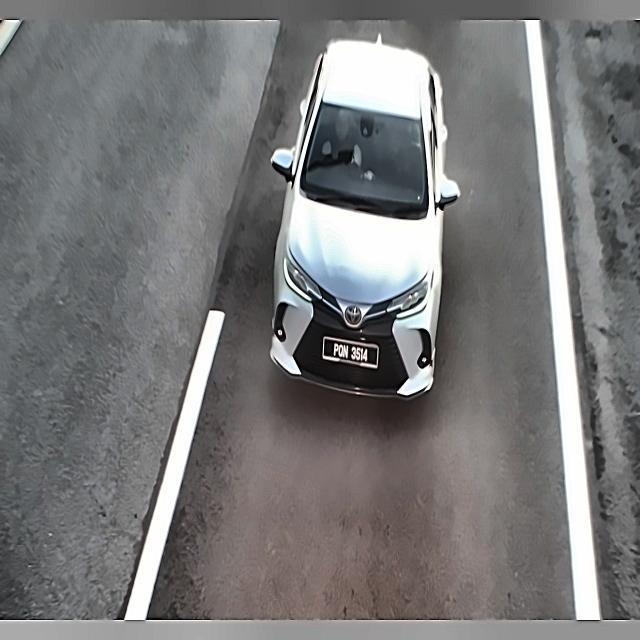car: (321, 334, 383, 372)
